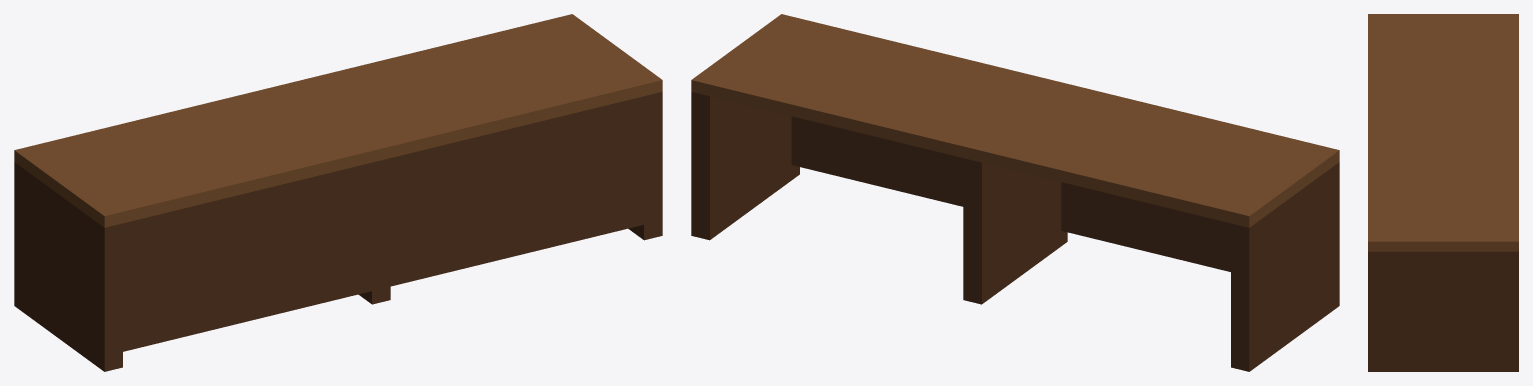
The model's file is tv-desk-long.glb.
3 renders of one model, left to right at view 1: azimuth 30°, elevation 25°; view 2: azimuth 150°, elevation 25°; view 3: azimuth 270°, elevation 25°, orthographic. The views are drawn at different scales.
Parts seen in each view (by area): view 1: box-prop; view 2: box-prop; view 3: box-prop.
Part boxes in pixels (x1,y1,x2,y2): box-prop: (14,14,662,371); box-prop: (691,14,1339,371); box-prop: (1368,14,1518,371).
Size of the model in its own units: 3 by 0.8 by 0.84.
